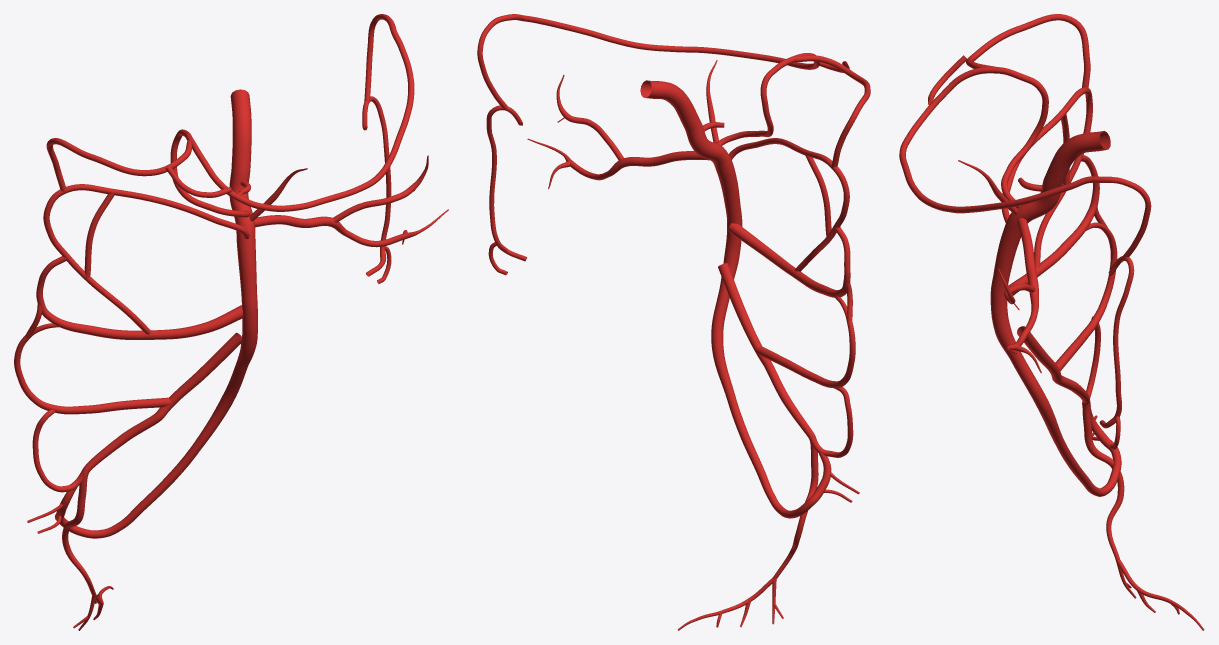
Rendered from circulatorio-superior-mesenteric-artery.glb.
3 renders of one model, left to right at view 1: azimuth 30°, elevation 25°; view 2: azimuth 150°, elevation 25°; view 3: azimuth 270°, elevation 25°, orthographic. The views are drawn at different scales.
Parts seen in each view (by area): view 1: Superior mesenteric artery, Anterior inferior pancreaticoduodenal artery, Right colic artery, Marginal artery, Middle colic artery, Colic branch of ileocolic artery, Appendicular artery, Ileocolic artery, Ileal branch of ileocolic artery; view 2: Superior mesenteric artery, Anterior inferior pancreaticoduodenal artery, Marginal artery, Right colic artery, Middle colic artery, Appendicular artery, Colic branch of ileocolic artery, Ileocolic artery, Ileal branch of ileocolic artery; view 3: Superior mesenteric artery, Anterior inferior pancreaticoduodenal artery, Marginal artery, Right colic artery, Appendicular artery, Colic branch of ileocolic artery, Middle colic artery, Ileocolic artery.
Part boxes in pixels (x1,y1,x2,y2): Superior mesenteric artery: [27, 89, 448, 538]; Anterior inferior pancreaticoduodenal artery: [46, 26, 414, 217]; Right colic artery: [36, 255, 243, 339]; Marginal artery: [25, 14, 395, 492]; Middle colic artery: [43, 184, 249, 278]; Colic branch of ileocolic artery: [14, 323, 171, 414]; Appendicular artery: [62, 467, 113, 630]; Ileocolic artery: [157, 332, 241, 416]; Ileal branch of ileocolic artery: [84, 412, 164, 471]; Superior mesenteric artery: [527, 60, 859, 518]; Anterior inferior pancreaticoduodenal artery: [509, 14, 870, 167]; Marginal artery: [477, 14, 853, 457]; Right colic artery: [728, 223, 850, 297]; Middle colic artery: [729, 138, 849, 238]; Appendicular artery: [677, 434, 818, 630]; Colic branch of ileocolic artery: [755, 290, 855, 388]; Ileocolic artery: [718, 263, 770, 364]; Ileal branch of ileocolic artery: [763, 361, 814, 437]; Superior mesenteric artery: [958, 131, 1121, 496]; Anterior inferior pancreaticoduodenal artery: [899, 14, 1094, 213]; Marginal artery: [1082, 176, 1151, 449]; Right colic artery: [1008, 155, 1099, 295]; Appendicular artery: [1082, 401, 1204, 630]; Colic branch of ileocolic artery: [1055, 222, 1117, 371]; Middle colic artery: [1001, 87, 1092, 222]; Ileocolic artery: [1017, 326, 1061, 381].
Size of the model in its own units: 0.142 by 0.193 by 0.0927.
